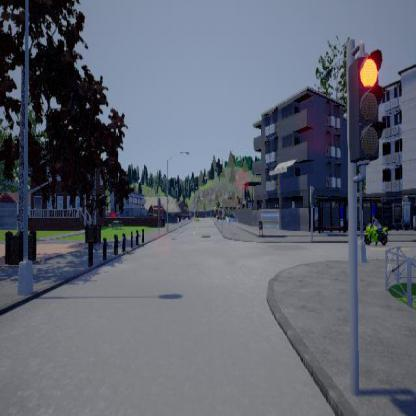traffic_light_red: (348, 39, 383, 182)
vehicle: (364, 222, 388, 244)
